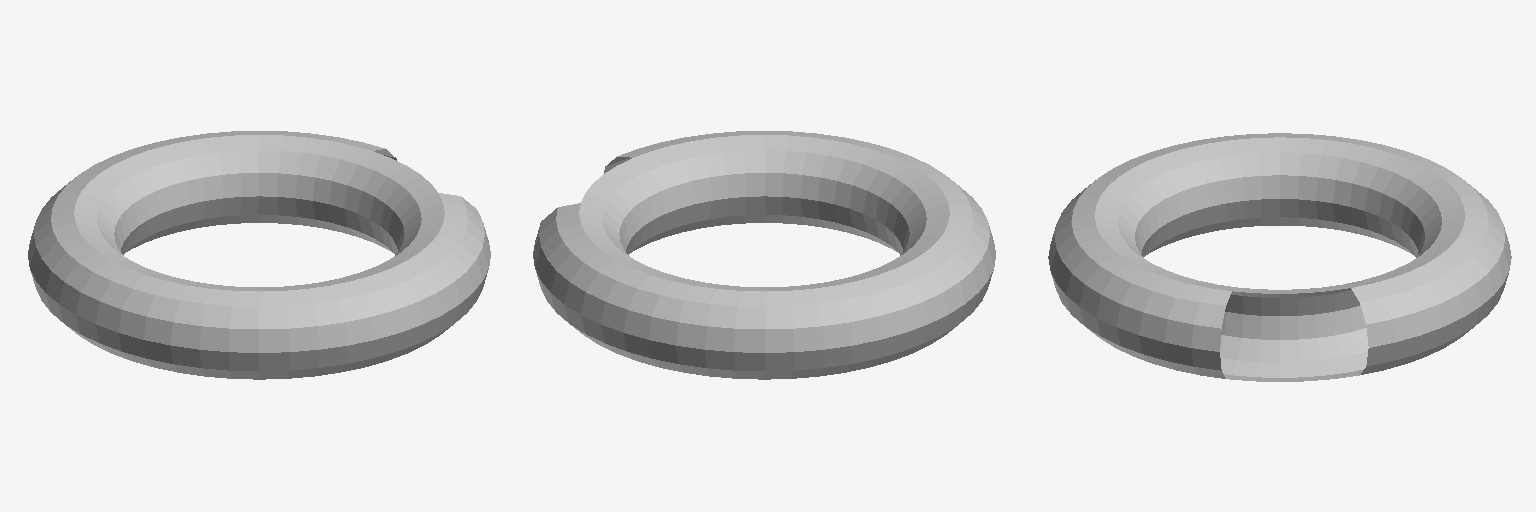
Rendered from chipped-torus.obj.
3 renders of one model, left to right at view 1: azimuth 30°, elevation 25°; view 2: azimuth 150°, elevation 25°; view 3: azimuth 270°, elevation 25°, orthographic.
Bounding box in the file's own units: 2.46 × 0.5 × 2.5.